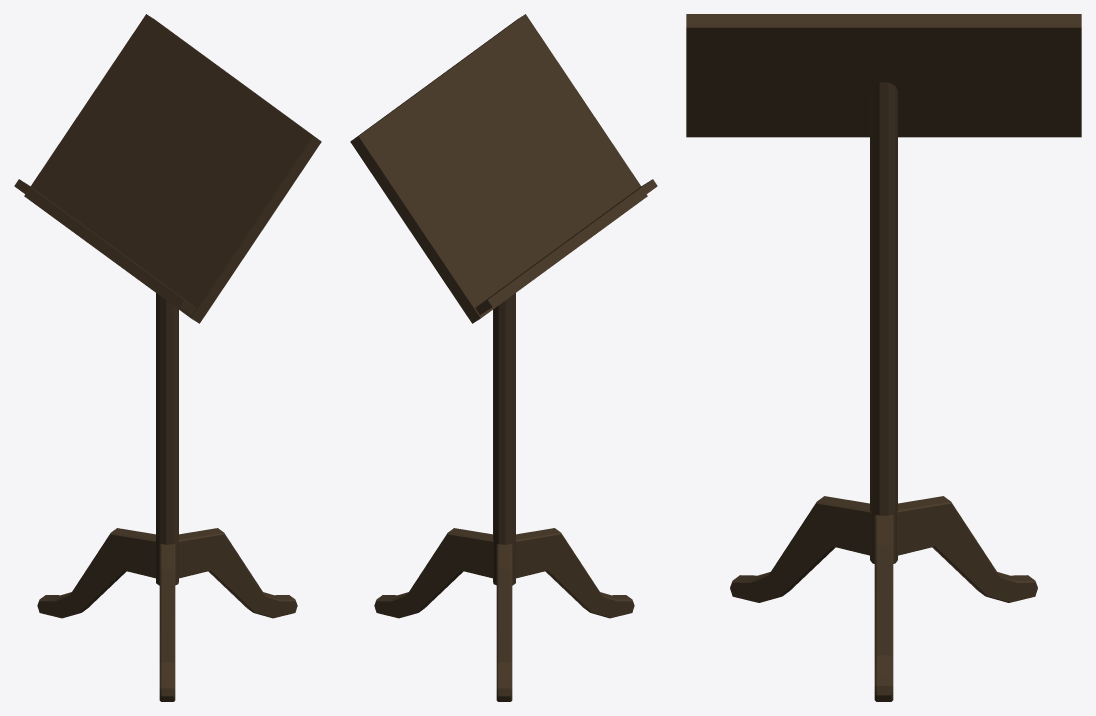
The model's file is lectern4.glb.
3 renders of one model, left to right at view 1: azimuth 30°, elevation 25°; view 2: azimuth 150°, elevation 25°; view 3: azimuth 270°, elevation 25°, orthographic. The views are drawn at different scales.
Visible parts, largest first — view 1: lectern4; view 2: lectern4; view 3: lectern4.
Part boxes in pixels (bbox=[...]): lectern4: bbox=[14, 14, 321, 701]; lectern4: bbox=[350, 14, 657, 701]; lectern4: bbox=[686, 14, 1081, 701].
Bounding box in the file's own units: 0.5419 × 1.44 × 0.7931.
